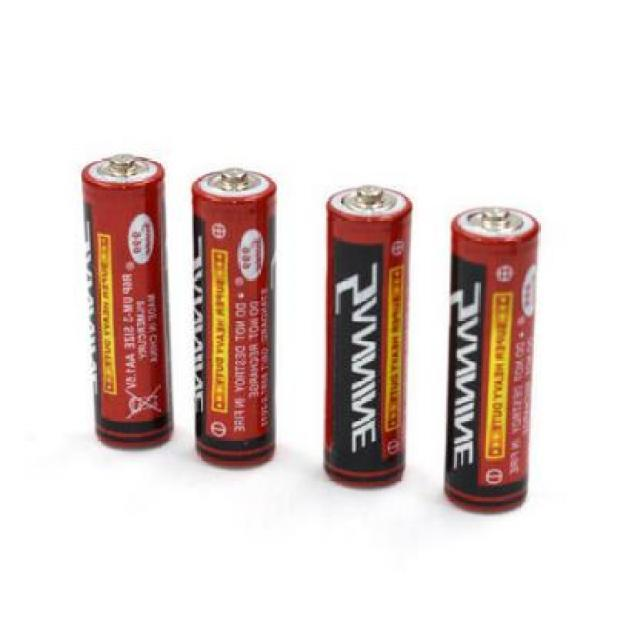hazardous waste: (437, 200, 545, 514), (76, 150, 184, 456), (184, 168, 284, 477), (317, 182, 411, 496)
